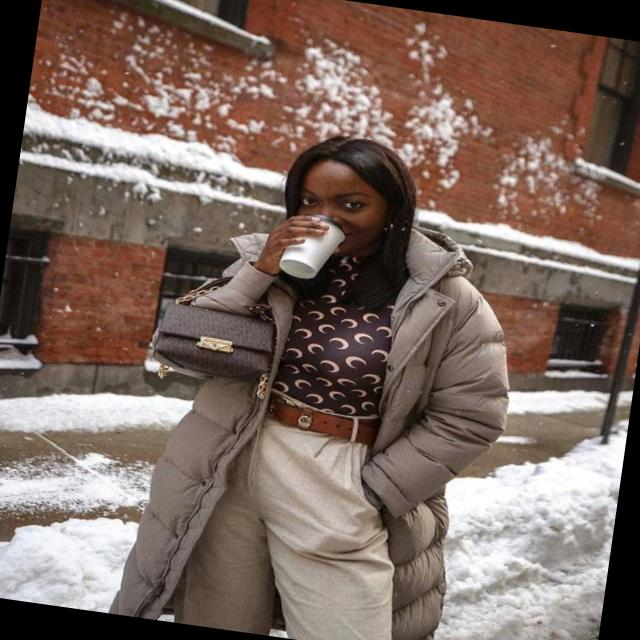Jacket: (94, 196, 540, 640)
